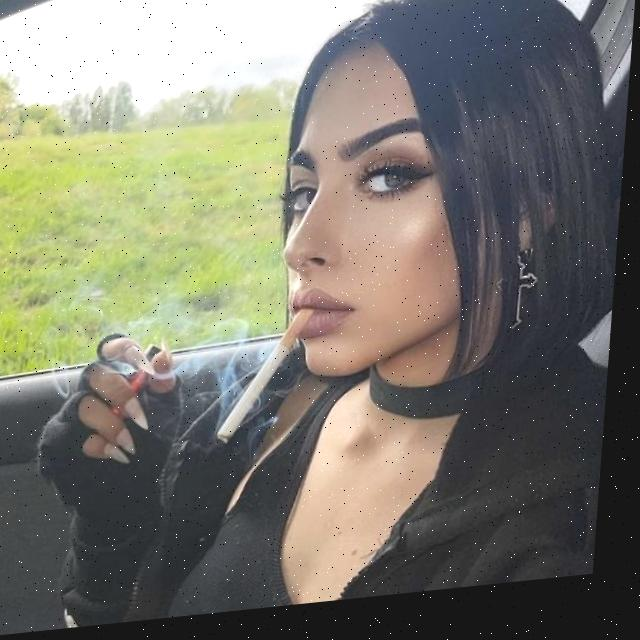cigarette: (227, 316, 321, 448)
